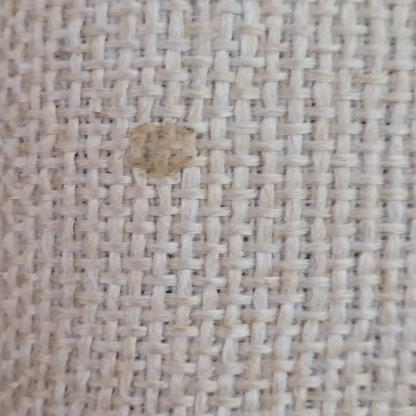spot: (114, 118, 206, 182)
